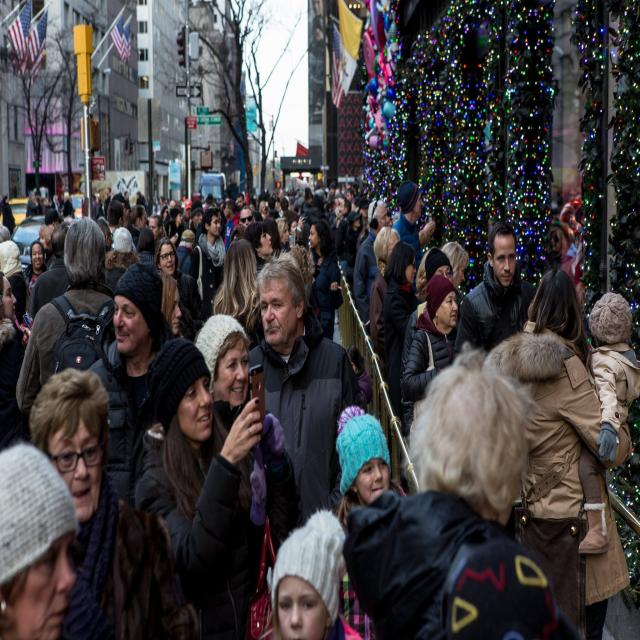body: (342, 349, 586, 640), (480, 265, 634, 639), (130, 337, 266, 640), (28, 366, 157, 640), (247, 251, 367, 529), (84, 259, 173, 513), (16, 216, 118, 415), (326, 403, 408, 640), (577, 292, 640, 554), (0, 438, 77, 640), (400, 273, 460, 498), (266, 506, 368, 637), (400, 246, 462, 438), (382, 240, 425, 498), (462, 220, 538, 353), (190, 309, 258, 440), (207, 182, 367, 235), (0, 194, 29, 447), (212, 236, 262, 354), (352, 198, 391, 337), (368, 225, 401, 376), (306, 219, 344, 341), (28, 220, 72, 323), (188, 207, 227, 319), (418, 218, 470, 300), (391, 178, 424, 306), (153, 236, 202, 322), (104, 225, 142, 295), (148, 192, 204, 232), (152, 273, 182, 340), (242, 219, 275, 273), (99, 195, 148, 228), (21, 240, 48, 294), (40, 207, 60, 261), (176, 228, 196, 276), (223, 199, 240, 255), (293, 245, 315, 281), (136, 232, 158, 260), (61, 192, 75, 218), (25, 190, 38, 217), (104, 186, 112, 222), (61, 202, 77, 220), (92, 190, 101, 221), (42, 192, 52, 215), (33, 196, 44, 216), (50, 194, 60, 208)
